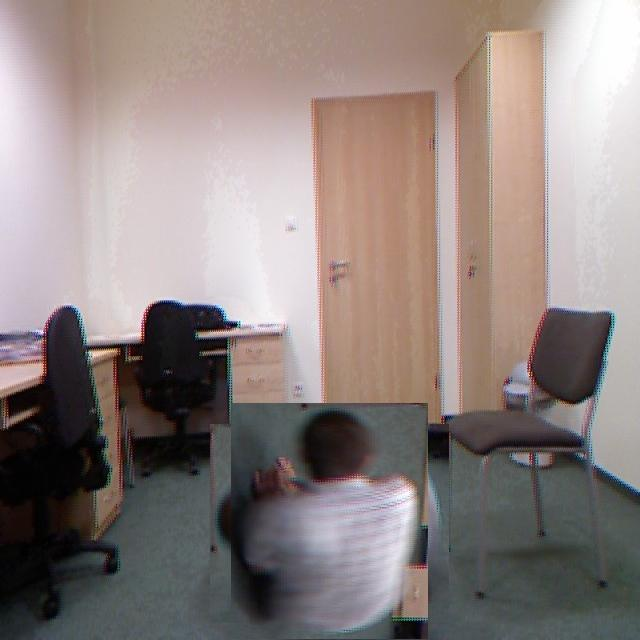Fall: (196, 406, 437, 640)
